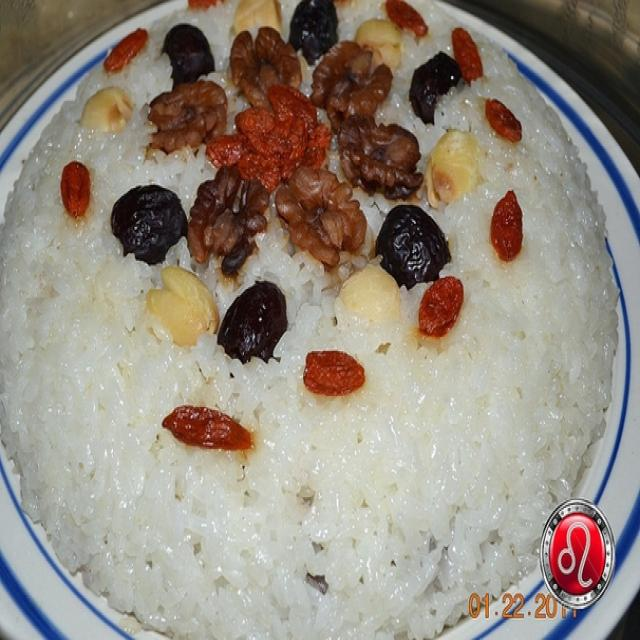米饭主食: (8, 4, 632, 630)
